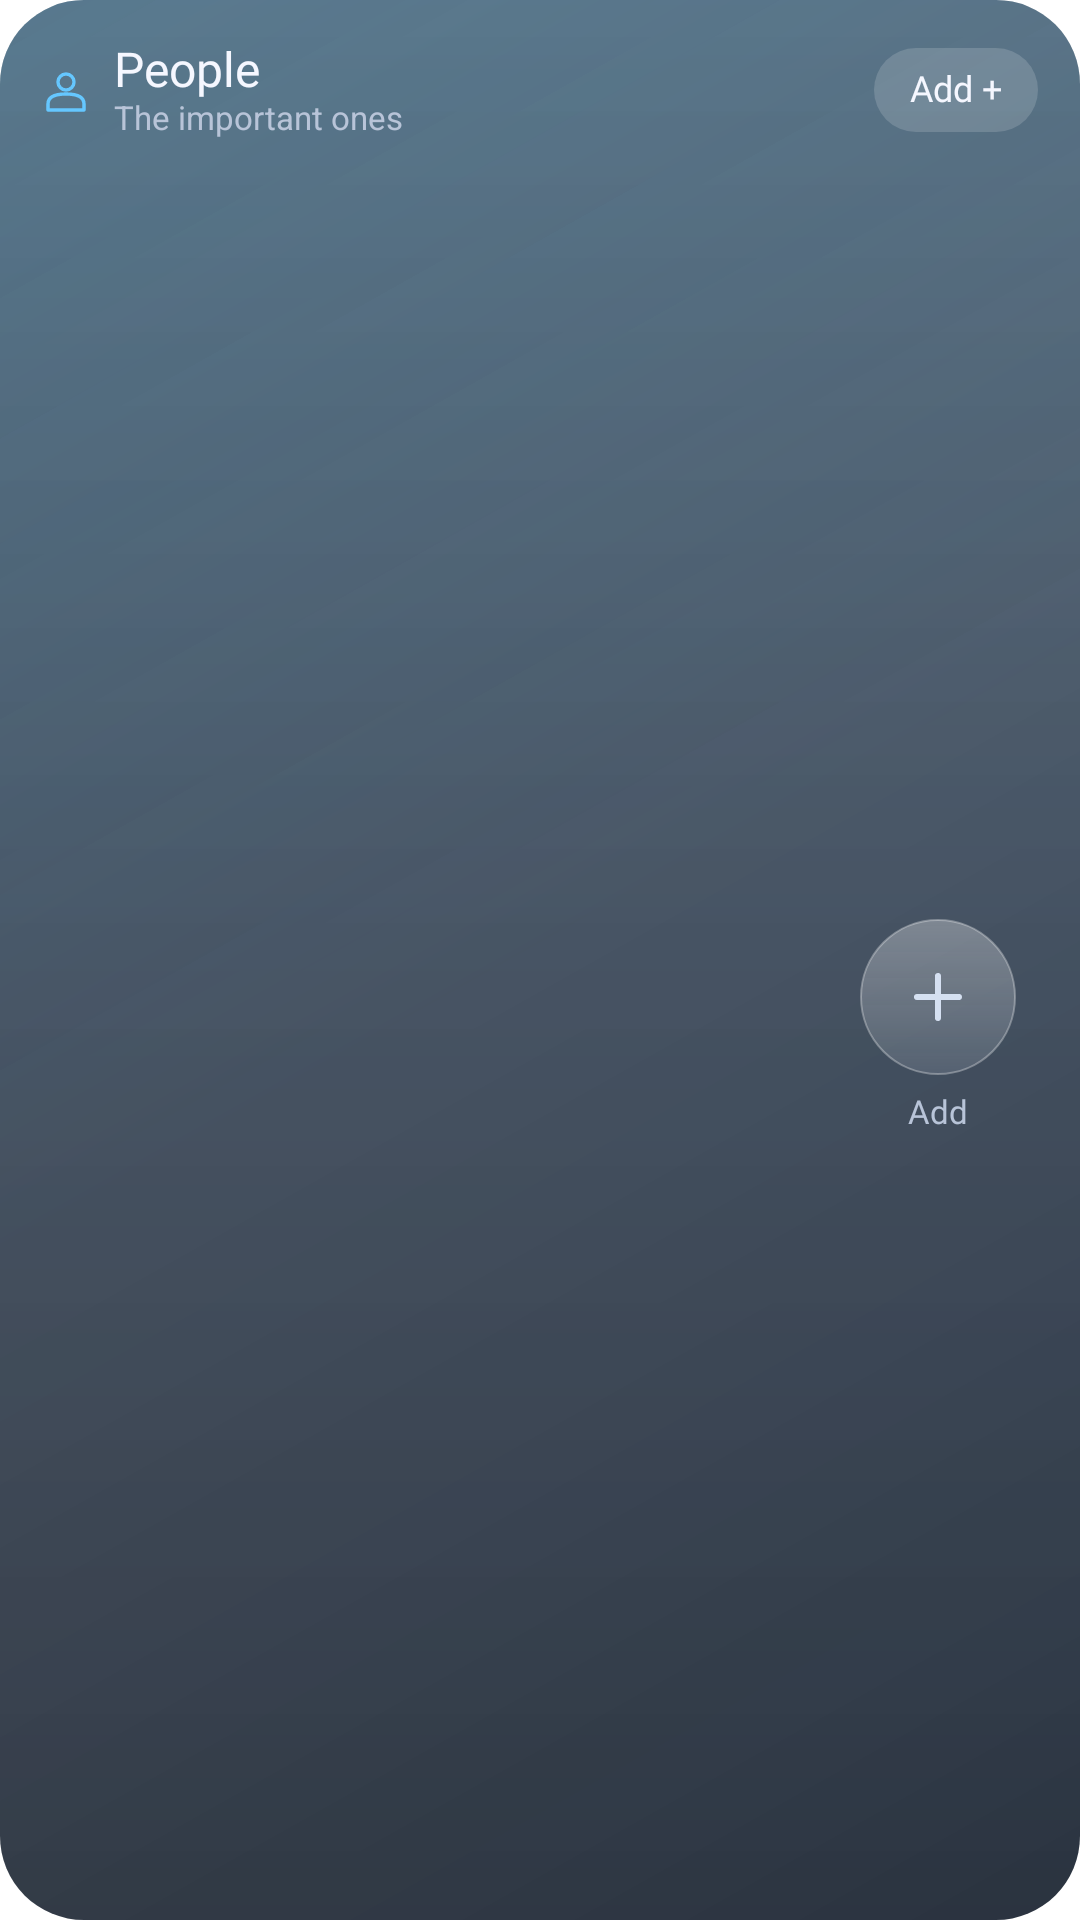

Point at icon controls on the screen. Image size 1080 x 1920, points as point (x, y).
widget contacts: point (66, 92)
